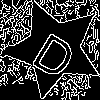D: (28, 23, 85, 81)
